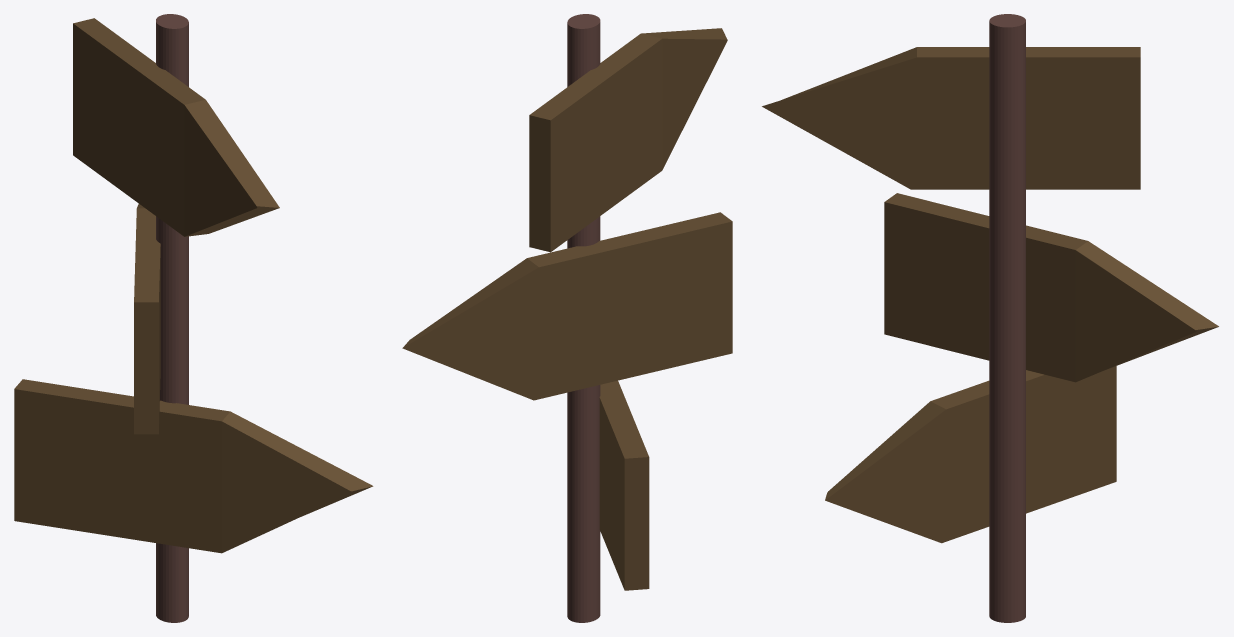
The model's file is wegwijzer.fbx.
3 renders of one model, left to right at view 1: azimuth 30°, elevation 25°; view 2: azimuth 150°, elevation 25°; view 3: azimuth 270°, elevation 25°, orthographic.
Parts seen in each view (by area): view 1: Cylinder.003, Cylinder.001, Cylinder, Cylinder.002; view 2: Cylinder.002, Cylinder.001, Cylinder, Cylinder.003; view 3: Cylinder.001, Cylinder.002, Cylinder.003, Cylinder.
Part boxes in pixels (x1=…): Cylinder.003: x1=14, y1=379, x2=373, y2=553; Cylinder.001: x1=73, y1=18, x2=279, y2=236; Cylinder: x1=156, y1=14, x2=188, y2=622; Cylinder.002: x1=134, y1=204, x2=160, y2=434; Cylinder.002: x1=402, y1=212, x2=732, y2=400; Cylinder.001: x1=529, y1=28, x2=727, y2=252; Cylinder: x1=567, y1=14, x2=600, y2=622; Cylinder.003: x1=599, y1=380, x2=649, y2=590; Cylinder.001: x1=762, y1=47, x2=1140, y2=189; Cylinder.002: x1=884, y1=193, x2=1218, y2=382; Cylinder.003: x1=825, y1=366, x2=1116, y2=543; Cylinder: x1=989, y1=14, x2=1025, y2=622.
Size of the model in its own units: 141 by 360 by 251.
